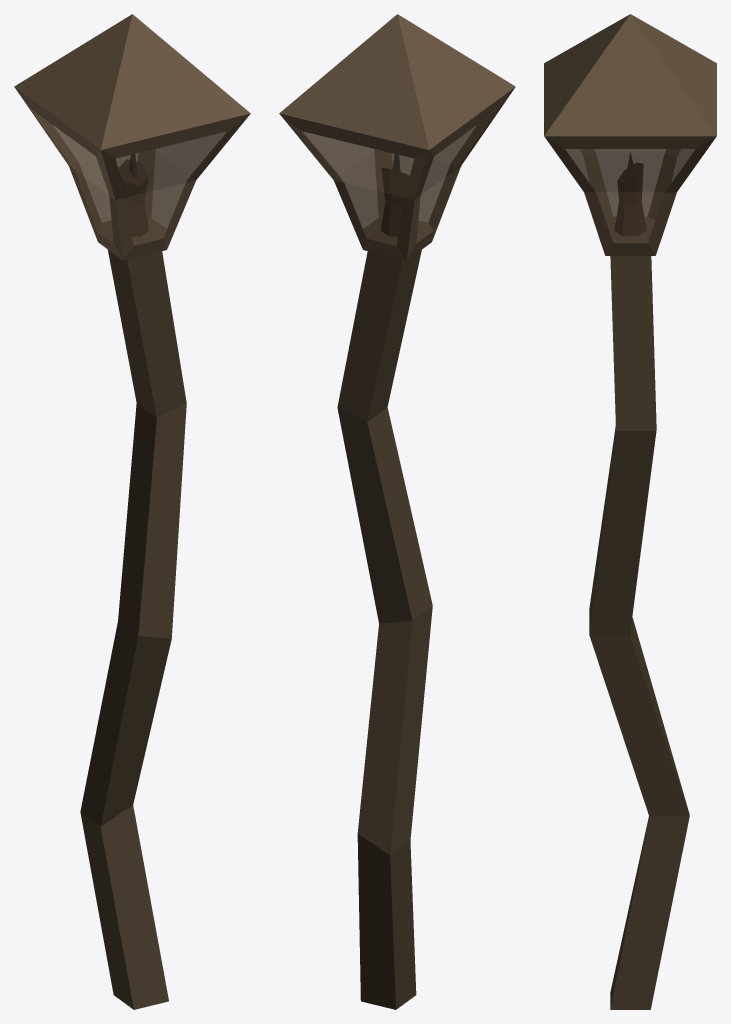
File: Lamp_5_Brown.fbx
The picture shows the model from 3 angles, left to right: view 1: azimuth 30°, elevation 25°; view 2: azimuth 150°, elevation 25°; view 3: azimuth 270°, elevation 25°; orthographic projection.
Parts seen in each view (by area): view 1: Lamp_5_Brown_Part_1, Lamp_5_Brown_Part_2, Lamp_5_Brown_Part_3, Lamp_5_Brown_Part_4; view 2: Lamp_5_Brown_Part_1, Lamp_5_Brown_Part_2, Lamp_5_Brown_Part_3, Lamp_5_Brown_Part_4; view 3: Lamp_5_Brown_Part_1, Lamp_5_Brown_Part_2, Lamp_5_Brown_Part_3, Lamp_5_Brown_Part_4.
Boxes of the visible parts, x1,y1,x2,y2 form: Lamp_5_Brown_Part_1: (80,249,186,1009); Lamp_5_Brown_Part_2: (14,14,250,260); Lamp_5_Brown_Part_3: (31,109,228,245); Lamp_5_Brown_Part_4: (118,159,148,236); Lamp_5_Brown_Part_1: (337,250,432,1009); Lamp_5_Brown_Part_2: (279,14,515,260); Lamp_5_Brown_Part_3: (301,109,498,245); Lamp_5_Brown_Part_4: (381,168,409,236); Lamp_5_Brown_Part_1: (589,256,689,1009); Lamp_5_Brown_Part_2: (544,14,716,255); Lamp_5_Brown_Part_3: (565,149,695,243); Lamp_5_Brown_Part_4: (615,162,645,235).
Size of the model in its own units: 64.05 by 402 by 64.05.
